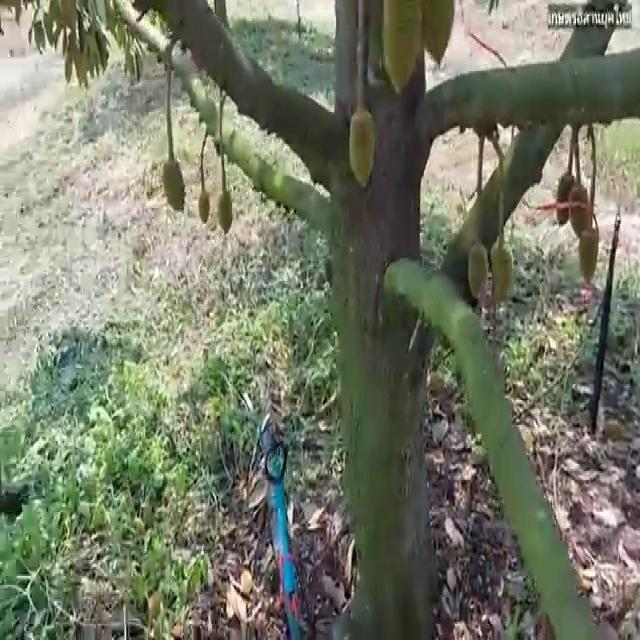durian: (379, 0, 426, 100), (416, 0, 461, 71), (348, 100, 378, 192), (488, 237, 514, 310), (161, 153, 189, 217), (568, 177, 595, 243), (554, 167, 581, 232), (467, 237, 490, 309), (577, 222, 602, 288), (216, 186, 236, 238), (196, 188, 212, 228)
